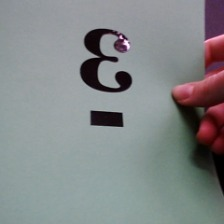green3: (76, 22, 139, 133)
